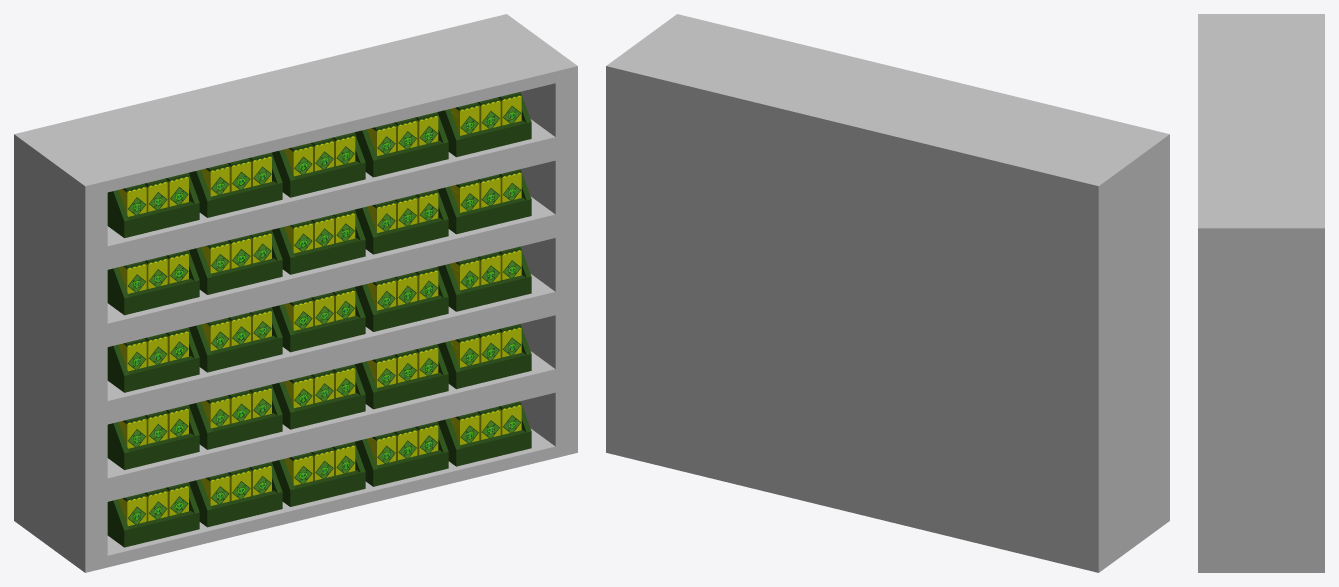
The model's file is Evelmart_Shelf_Poison (1).fbx.
3 views of the same model, side by side, from view 1: azimuth 30°, elevation 25°; view 2: azimuth 150°, elevation 25°; view 3: azimuth 270°, elevation 25° (orthographic). The views are drawn at different scales.
Visible parts, largest first — view 1: Poison; view 2: Poison; view 3: Poison.
Boxes of the visible parts, x1,y1,x2,y2 form: Poison: (14,14,577,572); Poison: (606,14,1169,572); Poison: (1198,14,1324,572).
Bounding box in the file's own units: 805 × 604 × 201.
